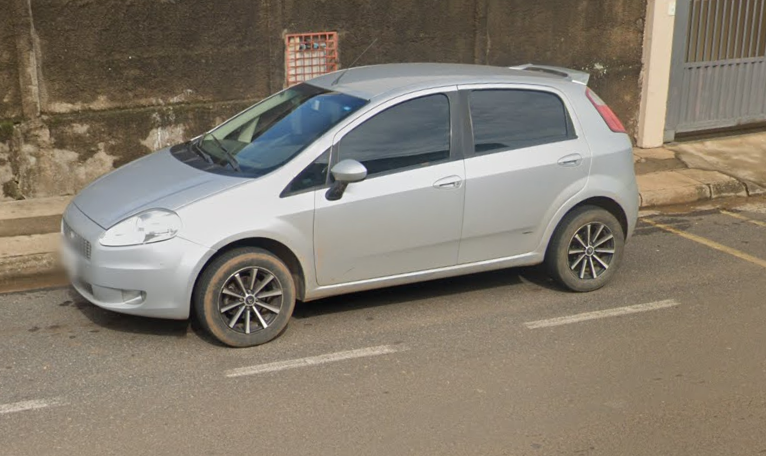car: (60, 59, 653, 348)
